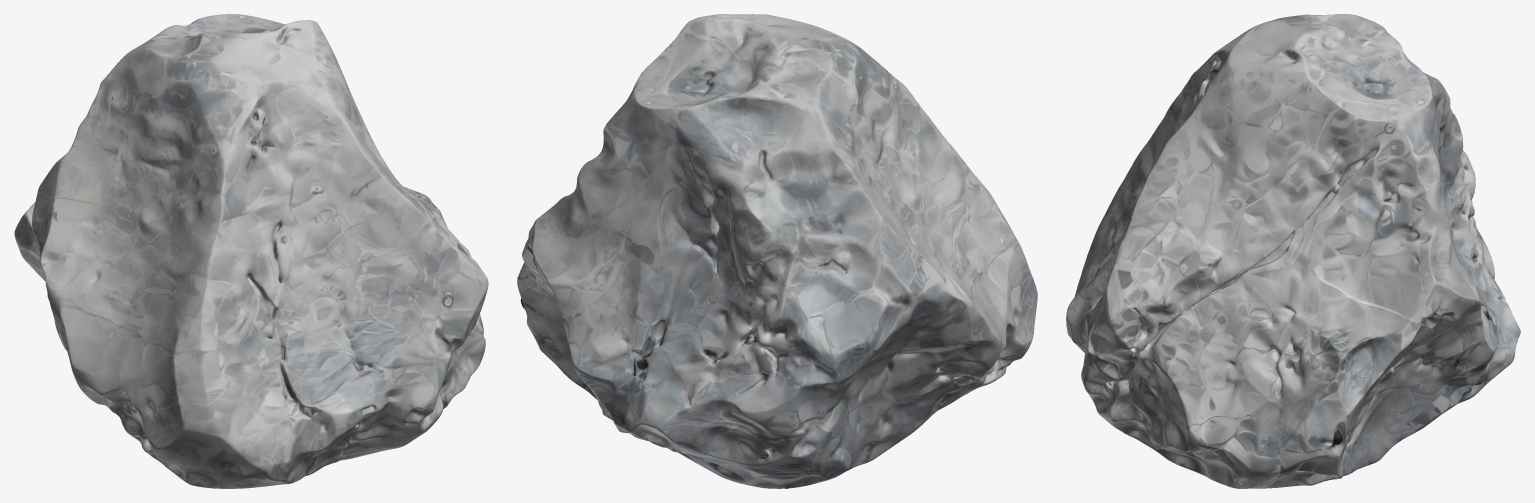
The model's file is nature-rock-marble.glb.
The picture shows the model from 3 angles, left to right: view 1: azimuth 30°, elevation 25°; view 2: azimuth 150°, elevation 25°; view 3: azimuth 270°, elevation 25°; orthographic projection. The views are drawn at different scales.
Visible parts, largest first — view 1: tripo_node_90c11b76-2e39-4cac-81a0-801547807779; view 2: tripo_node_90c11b76-2e39-4cac-81a0-801547807779; view 3: tripo_node_90c11b76-2e39-4cac-81a0-801547807779.
Part boxes in pixels (x1=…): tripo_node_90c11b76-2e39-4cac-81a0-801547807779: x1=14, y1=14, x2=488, y2=488; tripo_node_90c11b76-2e39-4cac-81a0-801547807779: x1=517, y1=14, x2=1037, y2=488; tripo_node_90c11b76-2e39-4cac-81a0-801547807779: x1=1066, y1=14, x2=1520, y2=488.
Bounding box in the file's own units: 1.67 × 1.5 × 1.57.
1 material, 1 textured.
